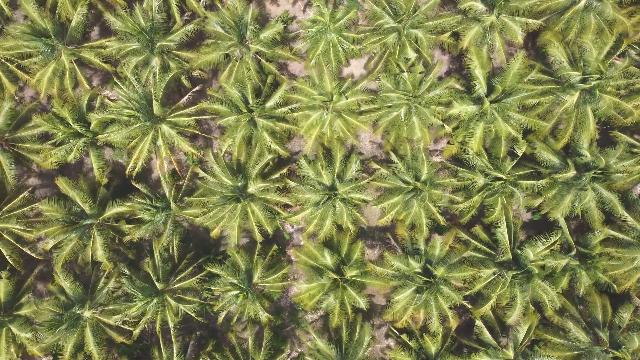trees: (92, 67, 216, 179), (450, 227, 559, 349), (15, 174, 143, 274), (16, 260, 140, 360), (196, 58, 305, 168), (109, 241, 215, 352), (185, 147, 297, 251), (439, 139, 550, 239), (519, 149, 638, 240), (282, 62, 382, 163), (8, 82, 113, 177), (365, 145, 461, 248), (357, 57, 455, 157), (289, 234, 384, 337), (100, 2, 208, 92), (284, 144, 378, 245), (537, 222, 639, 312), (201, 242, 296, 337), (185, 4, 299, 75), (439, 2, 546, 75), (360, 4, 449, 75), (292, 4, 369, 74), (525, 85, 596, 153), (388, 318, 483, 360), (5, 310, 65, 359), (1, 93, 27, 140), (2, 268, 23, 311)
